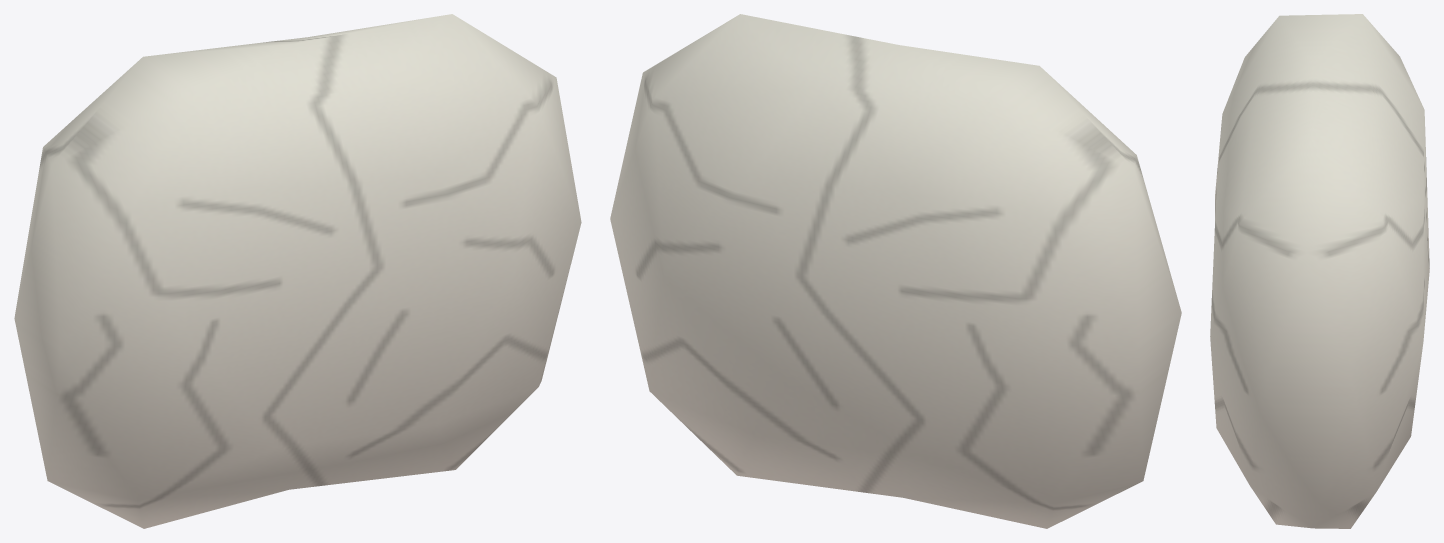
The model's file is break_wall.glb.
3 views of the same model, side by side, from view 1: azimuth 30°, elevation 25°; view 2: azimuth 150°, elevation 25°; view 3: azimuth 270°, elevation 25° (orthographic). The views are drawn at different scales.
Visible parts, largest first — view 1: BreakWall; view 2: BreakWall; view 3: BreakWall.
Part boxes in pixels (<box>): BreakWall: <box>14,14,581,528</box>; BreakWall: <box>610,14,1181,528</box>; BreakWall: <box>1210,14,1429,528</box>.
Size of the model in its own units: 5.17 by 4.22 by 2.09.
Materials: 1 (1 with a texture image).
